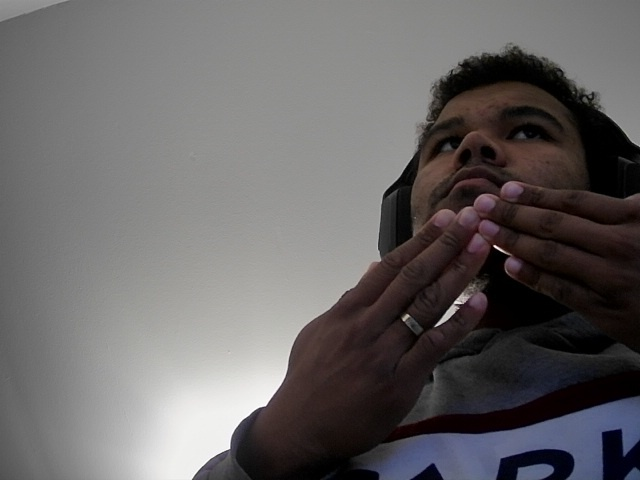ThankYou: (230, 181, 640, 457)
